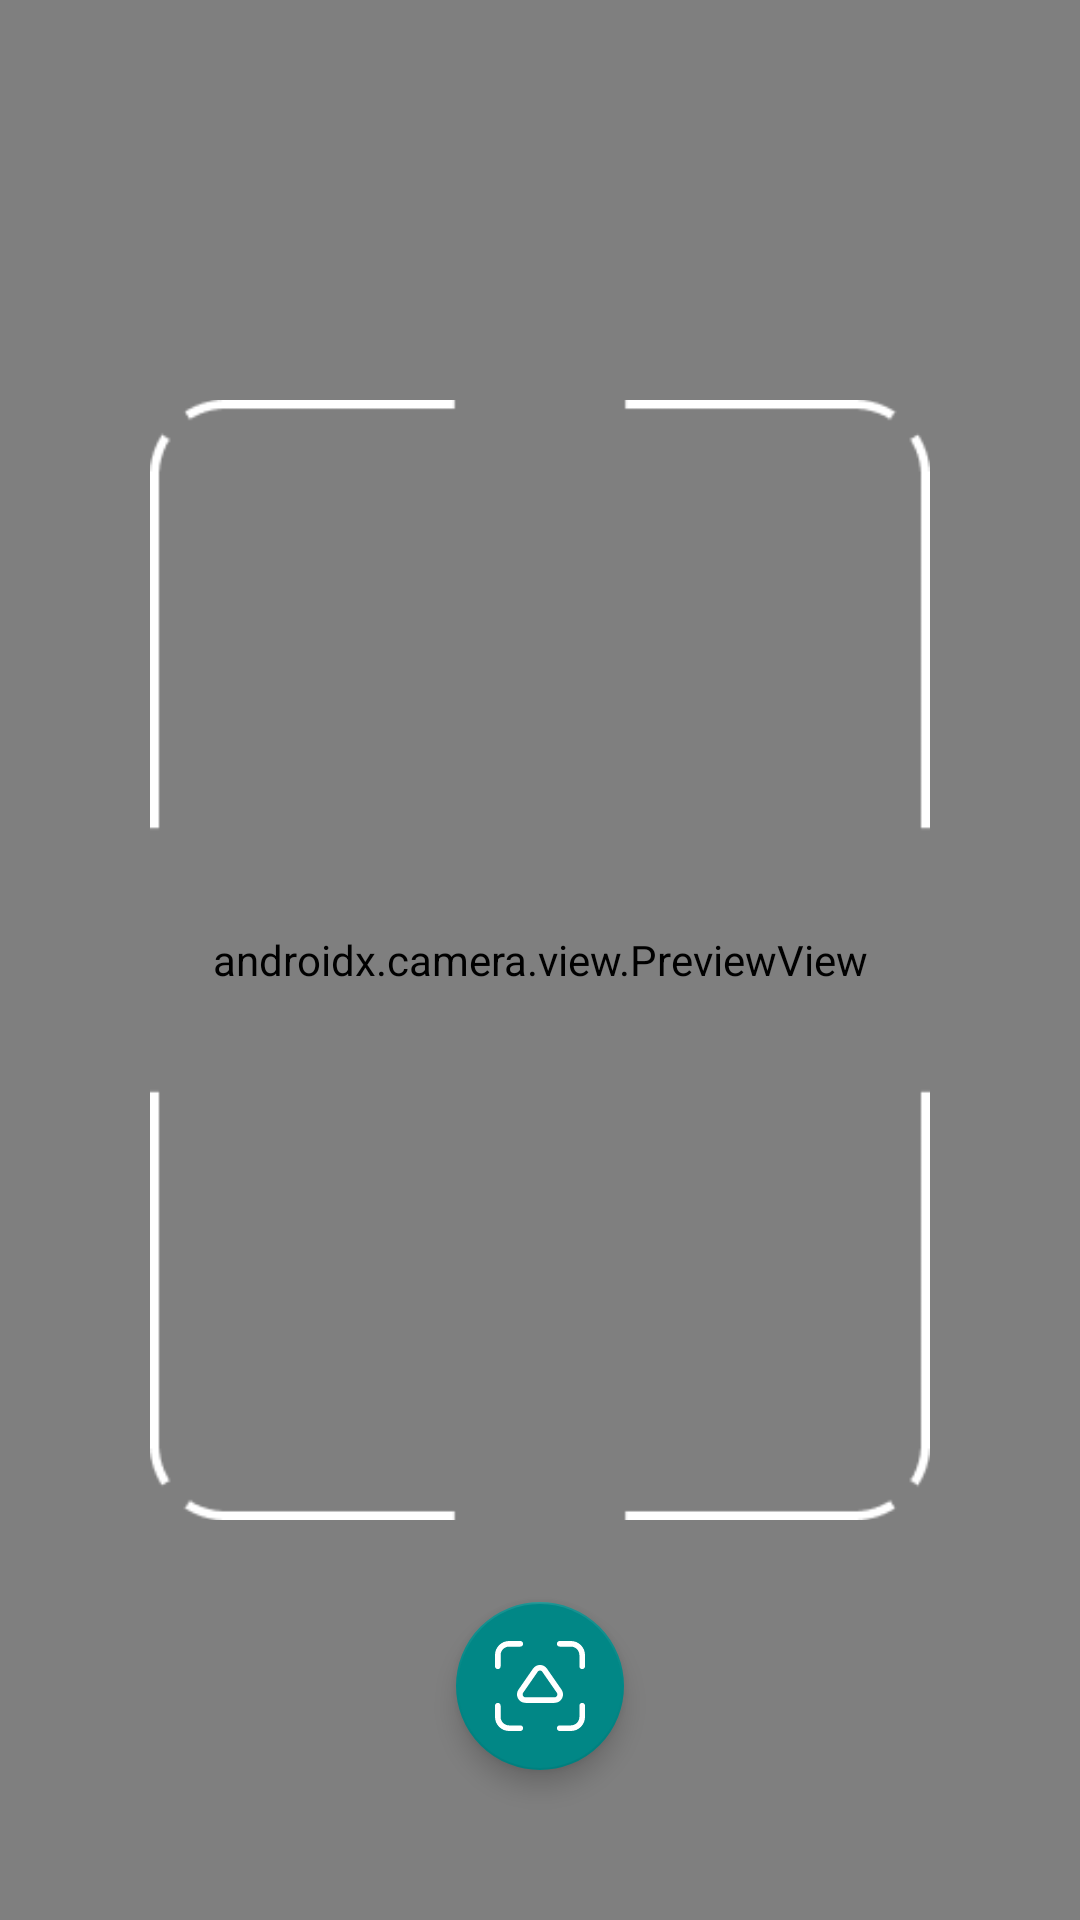

Icon click points for this 1080×1920 phone screenshot, format [x,y]:
scan: [540,1686]
